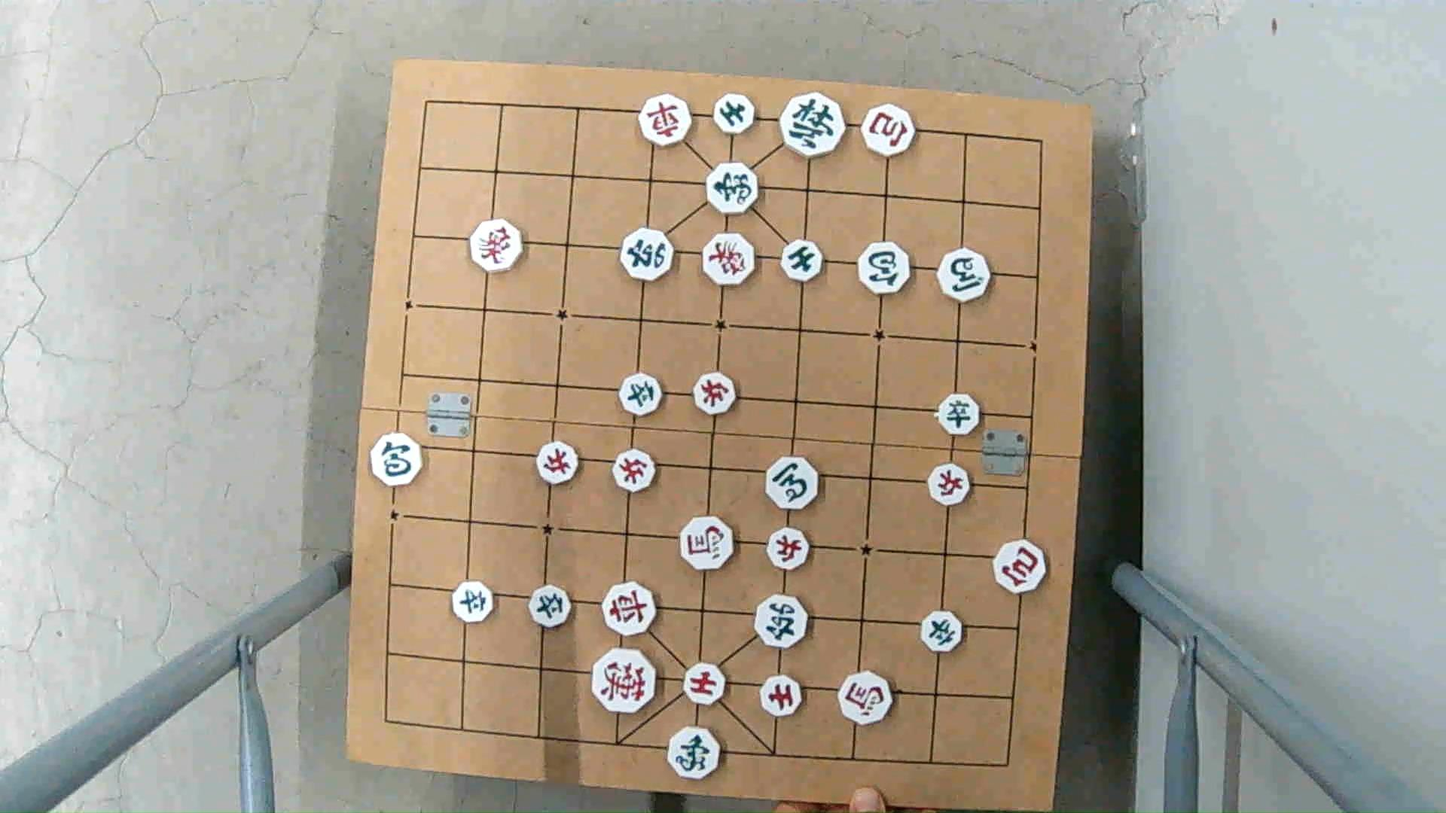cha_green: (755, 594, 808, 644), (620, 230, 676, 276)
cha_red: (638, 98, 695, 146), (603, 587, 660, 635)
jol_green: (620, 372, 663, 419), (526, 587, 575, 625), (936, 395, 983, 433), (450, 584, 496, 621), (921, 613, 967, 650)
jol_red: (691, 373, 737, 415), (537, 443, 584, 483), (612, 450, 659, 489), (926, 464, 972, 503), (768, 530, 811, 568)
ma_green: (764, 460, 823, 510), (935, 251, 990, 300)
ma_red: (679, 515, 733, 569), (837, 674, 895, 723)
po_green: (856, 245, 913, 295), (368, 436, 426, 484)
po_red: (856, 104, 916, 153), (990, 544, 1048, 592)
sa_green: (779, 236, 825, 282), (710, 94, 758, 135)
sa_red: (682, 665, 730, 703), (761, 676, 804, 714)
sang_green: (705, 164, 761, 214), (667, 729, 723, 778)
sang_red: (698, 236, 755, 285), (467, 220, 522, 269)
wang_green: (776, 97, 847, 156)
wang_red: (588, 650, 659, 714)
